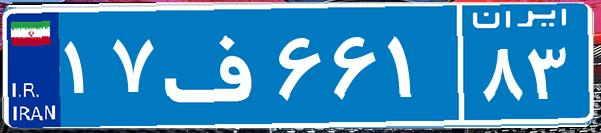1: (385, 28, 445, 110), (57, 26, 110, 107)
3: (525, 38, 570, 115)
6: (273, 28, 330, 110), (330, 28, 385, 110)
7: (110, 28, 158, 105)
8: (475, 38, 525, 113)
ف: (158, 15, 273, 115)
